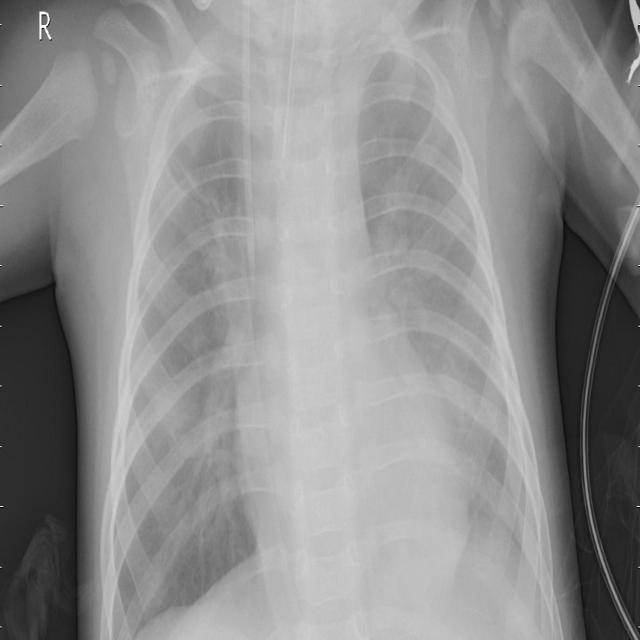high-pneumonia: (366, 157, 547, 611), (115, 28, 248, 551)
low-pneumonia: (365, 45, 455, 162)
